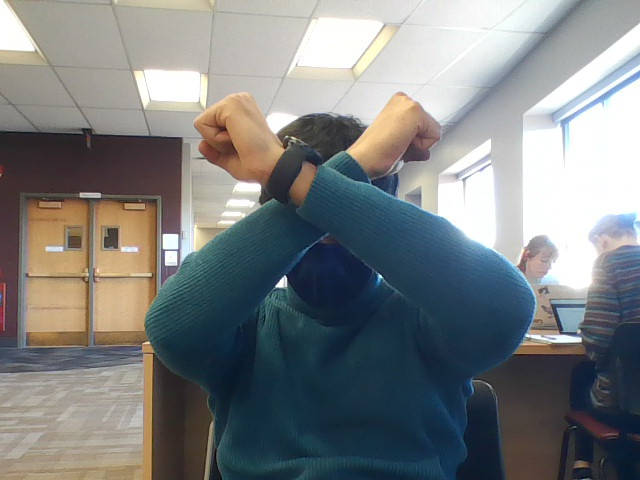cancel: (173, 73, 467, 326)
